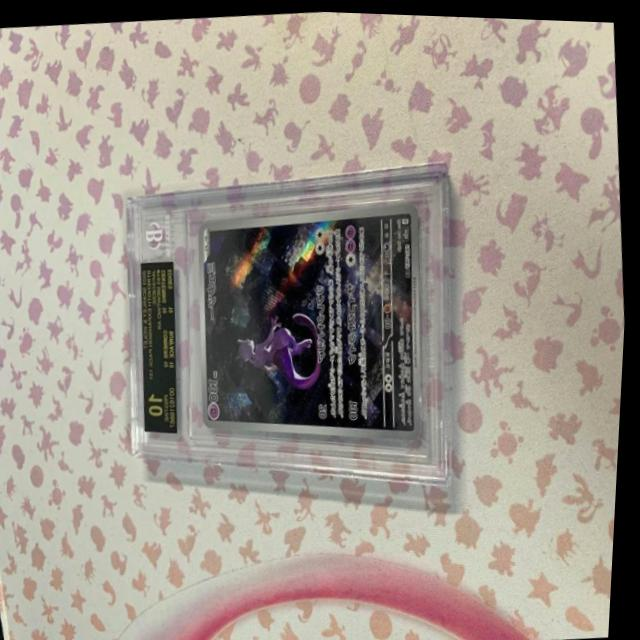card: (200, 197, 426, 437)
